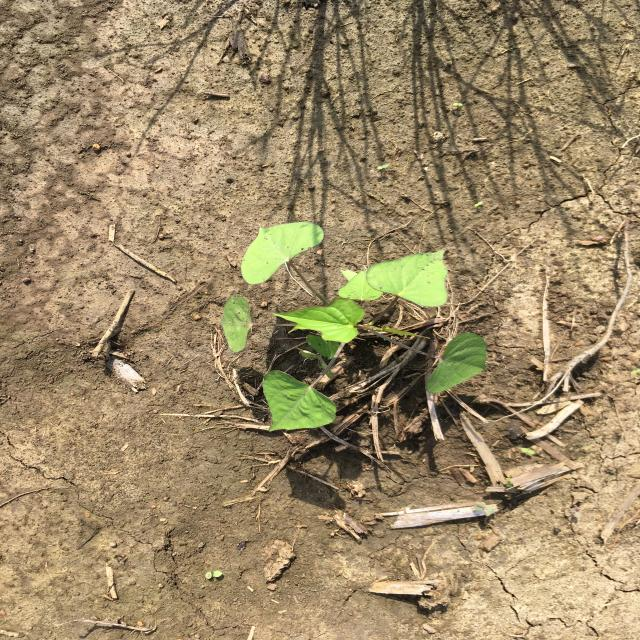MorningGlory: (213, 220, 490, 432)
